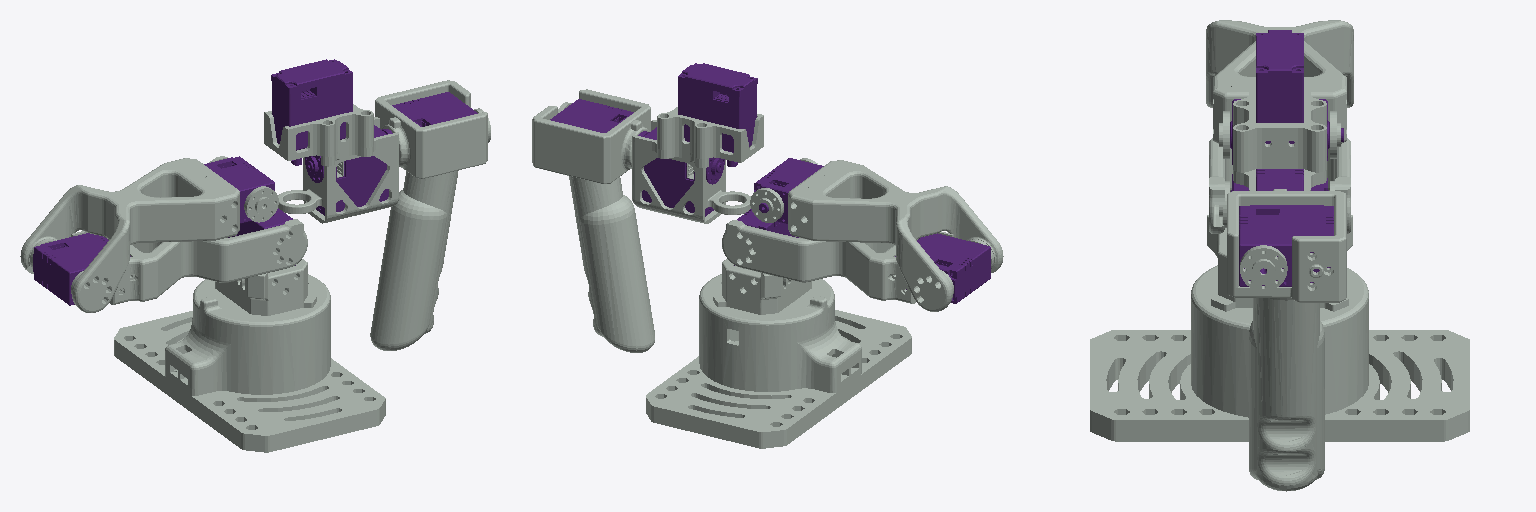
The robot description file, URDF, robot "stararm102_ld_simulator":
<?xml version="1.0" encoding="utf-8"?>
<robot name="stararm102_ld_simulator">
  <material name="shell">
    <color rgba="0.720 0.760 0.730 1"/>
  </material>
  <material name="motor">
    <color rgba="0.394 0.219 0.523 1"/>
  </material>
  <link name="base_link">
    <inertial>
      <origin xyz="-0.00507886641574018 -3.42055196168034E-05 0.0170541570471663" rpy="0 0 0"/>
      <mass value="0.155441639095221"/>
      <inertia ixx="0.000211774147683076" ixy="-1.12835975463621E-08" ixz="-1.66282304179735E-06" iyy="0.000108041554696676" iyz="3.2421968022911E-08" izz="0.000295757258206271"/>
    </inertial>
    <collision>
      <origin xyz="0 0 0" rpy="0 0 0"/>
      <geometry>
        <mesh filename="package://stararm102/meshes/ld/base_link.STL"/>
      </geometry>
    </collision>
    <visual>
      <origin xyz="0 0 0" rpy="0 0 0"/>
      <geometry>
        <mesh filename="package://stararm102/meshes/ld/shells/base_link__0.STL"/>
      </geometry>
      <material name="shell"/>
    </visual>
    <visual>
      <origin xyz="0 0 0" rpy="0 0 0"/>
      <geometry>
        <mesh filename="package://stararm102/meshes/ld/shells/base_link__1.STL"/>
      </geometry>
      <material name="shell"/>
    </visual>
  </link>
  <link name="link1">
    <inertial>
      <origin xyz="-0.000860795817551681 3.48041004087085E-05 0.0388877617080775" rpy="0 0 0"/>
      <mass value="0.0365919096309897"/>
      <inertia ixx="1.06390422111377E-05" ixy="1.47026736408431E-13" ixz="3.78567348260604E-07" iyy="6.84495444026531E-06" iyz="-3.37080406447148E-09" izz="1.2039407998213E-05"/>
    </inertial>
    <collision>
      <origin xyz="0 0 0" rpy="0 0 0"/>
      <geometry>
        <mesh filename="package://stararm102/meshes/ld/link1.STL"/>
      </geometry>
    </collision>
    <visual>
      <origin xyz="0 0 0" rpy="0 0 0"/>
      <geometry>
        <mesh filename="package://stararm102/meshes/ld/shells/link1__0.STL"/>
      </geometry>
      <material name="motor"/>
    </visual>
    <visual>
      <origin xyz="0 0 0" rpy="0 0 0"/>
      <geometry>
        <mesh filename="package://stararm102/meshes/ld/shells/link1__1.STL"/>
      </geometry>
      <material name="shell"/>
    </visual>
    <visual>
      <origin xyz="0 0 0" rpy="0 0 0"/>
      <geometry>
        <mesh filename="package://stararm102/meshes/ld/shells/link1__2.STL"/>
      </geometry>
      <material name="shell"/>
    </visual>
    <visual>
      <origin xyz="0 0 0" rpy="0 0 0"/>
      <geometry>
        <mesh filename="package://stararm102/meshes/ld/shells/link1__3.STL"/>
      </geometry>
      <material name="shell"/>
    </visual>
    <visual>
      <origin xyz="0 0 0" rpy="0 0 0"/>
      <geometry>
        <mesh filename="package://stararm102/meshes/ld/shells/link1__4.STL"/>
      </geometry>
      <material name="shell"/>
    </visual>
  </link>
  <joint name="joint1" type="revolute">
    <origin xyz="0 0 0.03135" rpy="0 0 0"/>
    <parent link="base_link"/>
    <child link="link1"/>
    <axis xyz="0 0 -1"/>
    <limit effort="100" velocity="1" lower="-2.27" upper="2.27"/>
  </joint>
  <link name="link2">
    <inertial>
      <origin xyz="0.065445114144764 4.80766137382835E-05 1.86081119329107E-05" rpy="0 0 0"/>
      <mass value="0.0677741447743621"/>
      <inertia ixx="2.49505701233235E-05" ixy="-1.4323495575068E-06" ixz="-2.88763068172859E-09" iyy="7.27062347454161E-05" iyz="5.01460295474944E-11" izz="5.48857485408553E-05"/>
    </inertial>
    <collision>
      <origin xyz="0 0 0" rpy="0 0 0"/>
      <geometry>
        <mesh filename="package://stararm102/meshes/ld/link2.STL"/>
      </geometry>
    </collision>
    <visual>
      <origin xyz="0 0 0" rpy="0 0 0"/>
      <geometry>
        <mesh filename="package://stararm102/meshes/ld/shells/link2__0.STL"/>
      </geometry>
      <material name="shell"/>
    </visual>
    <visual>
      <origin xyz="0 0 0" rpy="0 0 0"/>
      <geometry>
        <mesh filename="package://stararm102/meshes/ld/shells/link2__1.STL"/>
      </geometry>
      <material name="motor"/>
    </visual>
    <visual>
      <origin xyz="0 0 0" rpy="0 0 0"/>
      <geometry>
        <mesh filename="package://stararm102/meshes/ld/shells/link2__2.STL"/>
      </geometry>
      <material name="shell"/>
    </visual>
    <visual>
      <origin xyz="0 0 0" rpy="0 0 0"/>
      <geometry>
        <mesh filename="package://stararm102/meshes/ld/shells/link2__3.STL"/>
      </geometry>
      <material name="shell"/>
    </visual>
    <visual>
      <origin xyz="0 0 0" rpy="0 0 0"/>
      <geometry>
        <mesh filename="package://stararm102/meshes/ld/shells/link2__4.STL"/>
      </geometry>
      <material name="shell"/>
    </visual>
  </link>
  <joint name="joint2" type="revolute">
    <origin xyz="0 0 0.061025" rpy="-1.5708 0 3.1416"/>
    <parent link="link1"/>
    <child link="link2"/>
    <axis xyz="0 0 -1"/>
    <limit effort="100" velocity="1" lower="0" upper="3.14"/>
  </joint>
  <link name="link3">
    <inertial>
      <origin xyz="0.0139670047463857 -0.0548362979855048 -0.0260232297832349" rpy="0 0 0"/>
      <mass value="0.062483417986533"/>
      <inertia ixx="6.07869930598935E-05" ixy="6.07457290650578E-06" ixz="1.72220333532639E-10" iyy="2.4119750081723E-05" iyz="-1.05927086495088E-08" izz="4.79411867478519E-05"/>
    </inertial>
    <collision>
      <origin xyz="0 0 0" rpy="0 0 0"/>
      <geometry>
        <mesh filename="package://stararm102/meshes/ld/link3.STL"/>
      </geometry>
    </collision>
    <visual>
      <origin xyz="0 0 0" rpy="0 0 0"/>
      <geometry>
        <mesh filename="package://stararm102/meshes/ld/shells/link3__0.STL"/>
      </geometry>
      <material name="shell"/>
    </visual>
    <visual>
      <origin xyz="0 0 0" rpy="0 0 0"/>
      <geometry>
        <mesh filename="package://stararm102/meshes/ld/shells/link3__1.STL"/>
      </geometry>
      <material name="motor"/>
    </visual>
    <visual>
      <origin xyz="0 0 0" rpy="0 0 0"/>
      <geometry>
        <mesh filename="package://stararm102/meshes/ld/shells/link3__2.STL"/>
      </geometry>
      <material name="shell"/>
    </visual>
    <visual>
      <origin xyz="0 0 0" rpy="0 0 0"/>
      <geometry>
        <mesh filename="package://stararm102/meshes/ld/shells/link3__3.STL"/>
      </geometry>
      <material name="shell"/>
    </visual>
    <visual>
      <origin xyz="0 0 0" rpy="0 0 0"/>
      <geometry>
        <mesh filename="package://stararm102/meshes/ld/shells/link3__4.STL"/>
      </geometry>
      <material name="shell"/>
    </visual>
  </link>
  <joint name="joint3" type="revolute">
    <origin xyz="0.12162 -0.002 0" rpy="0 0 -1.5708"/>
    <parent link="link2"/>
    <child link="link3"/>
    <axis xyz="0 0 -1"/>
    <limit effort="100" velocity="1" lower="-1.57" upper="1.57"/>
  </joint>
  <link name="link4">
    <inertial>
      <origin xyz="0.0233852853653051 -0.00064950134956597 -4.72632631462466E-06" rpy="0 0 0"/>
      <mass value="0.0290020616470162"/>
      <inertia ixx="1.1313445878846E-05" ixy="2.04495765263871E-08" ixz="3.96927019964726E-09" iyy="1.29471641752426E-05" iyz="1.58418299959233E-09" izz="5.57726165351631E-06"/>
    </inertial>
    <collision>
      <origin xyz="0 0 0" rpy="0 0 0"/>
      <geometry>
        <mesh filename="package://stararm102/meshes/ld/link4.STL"/>
      </geometry>
    </collision>
    <visual>
      <origin xyz="0 0 0" rpy="0 0 0"/>
      <geometry>
        <mesh filename="package://stararm102/meshes/ld/link4.STL"/>
      </geometry>
      <material name="shell"/>
    </visual>
  </link>
  <joint name="joint4" type="revolute">
    <origin xyz="0.024219 -0.10865 0" rpy="0 0 -1.5708"/>
    <parent link="link3"/>
    <child link="link4"/>
    <axis xyz="0 0 -1"/>
    <limit effort="100" velocity="1" lower="-1.57" upper="1.57"/>
  </joint>
  <link name="link5">
    <inertial>
      <origin xyz="0.0239721333681056 1.60405714164091E-06 0.0123439857182104" rpy="0 0 0"/>
      <mass value="0.04381347428302"/>
      <inertia ixx="8.71603004200794E-06" ixy="6.14891079200239E-10" ixz="2.11746739586546E-07" iyy="1.364277032058E-05" iyz="1.11466543450896E-10" izz="1.22790054604825E-05"/>
    </inertial>
    <collision>
      <origin xyz="0 0 0" rpy="0 0 0"/>
      <geometry>
        <mesh filename="package://stararm102/meshes/ld/link5.STL"/>
      </geometry>
    </collision>
    <visual>
      <origin xyz="0 0 0" rpy="0 0 0"/>
      <geometry>
        <mesh filename="package://stararm102/meshes/ld/shells/link5__0.STL"/>
      </geometry>
      <material name="shell"/>
    </visual>
    <visual>
      <origin xyz="0 0 0" rpy="0 0 0"/>
      <geometry>
        <mesh filename="package://stararm102/meshes/ld/shells/link5__1.STL"/>
      </geometry>
      <material name="motor"/>
    </visual>
    <visual>
      <origin xyz="0 0 0" rpy="0 0 0"/>
      <geometry>
        <mesh filename="package://stararm102/meshes/ld/shells/link5__2.STL"/>
      </geometry>
      <material name="motor"/>
    </visual>
    <visual>
      <origin xyz="0 0 0" rpy="0 0 0"/>
      <geometry>
        <mesh filename="package://stararm102/meshes/ld/shells/link5__3.STL"/>
      </geometry>
      <material name="motor"/>
    </visual>
    <visual>
      <origin xyz="0 0 0" rpy="0 0 0"/>
      <geometry>
        <mesh filename="package://stararm102/meshes/ld/shells/link5__4.STL"/>
      </geometry>
      <material name="motor"/>
    </visual>
    <visual>
      <origin xyz="0 0 0" rpy="0 0 0"/>
      <geometry>
        <mesh filename="package://stararm102/meshes/ld/shells/link5__5.STL"/>
      </geometry>
      <material name="motor"/>
    </visual>
    <visual>
      <origin xyz="0 0 0" rpy="0 0 0"/>
      <geometry>
        <mesh filename="package://stararm102/meshes/ld/shells/link5__6.STL"/>
      </geometry>
      <material name="motor"/>
    </visual>
    <visual>
      <origin xyz="0 0 0" rpy="0 0 0"/>
      <geometry>
        <mesh filename="package://stararm102/meshes/ld/shells/link5__7.STL"/>
      </geometry>
      <material name="motor"/>
    </visual>
  </link>
  <joint name="joint5" type="revolute">
    <origin xyz="0.035 -0.00203 0" rpy="-1.5708 0 0"/>
    <parent link="link4"/>
    <child link="link5"/>
    <axis xyz="0 0 -1"/>
    <limit effort="100" velocity="1" lower="-2.27" upper="2.27"/>
  </joint>
  <link name="link6">
    <inertial>
      <origin xyz="0.00415459393144704 6.90476927523165E-05 -0.0776167187492962" rpy="0 0 0"/>
      <mass value="0.0277279215984807"/>
      <inertia ixx="6.06312512308252E-06" ixy="3.91296868794582E-08" ixz="-1.01016013762684E-06" iyy="6.31326639496487E-06" iyz="9.82075534976282E-09" izz="7.98591452298848E-06"/>
    </inertial>
    <collision>
      <origin xyz="0 0 0" rpy="0 0 0"/>
      <geometry>
        <mesh filename="package://stararm102/meshes/ld/link6.STL"/>
      </geometry>
    </collision>
    <visual>
      <origin xyz="0 0 0" rpy="0 0 0"/>
      <geometry>
        <mesh filename="package://stararm102/meshes/ld/shells/link6__0.STL"/>
      </geometry>
      <material name="shell"/>
    </visual>
    <visual>
      <origin xyz="0 0 0" rpy="0 0 0"/>
      <geometry>
        <mesh filename="package://stararm102/meshes/ld/shells/link6__1.STL"/>
      </geometry>
      <material name="motor"/>
    </visual>
    <visual>
      <origin xyz="0 0 0" rpy="0 0 0"/>
      <geometry>
        <mesh filename="package://stararm102/meshes/ld/shells/link6__2.STL"/>
      </geometry>
      <material name="shell"/>
    </visual>
    <visual>
      <origin xyz="0 0 0" rpy="0 0 0"/>
      <geometry>
        <mesh filename="package://stararm102/meshes/ld/shells/link6__3.STL"/>
      </geometry>
      <material name="motor"/>
    </visual>
    <visual>
      <origin xyz="0 0 0" rpy="0 0 0"/>
      <geometry>
        <mesh filename="package://stararm102/meshes/ld/shells/link6__4.STL"/>
      </geometry>
      <material name="motor"/>
    </visual>
  </link>
  <joint name="joint6" type="revolute">
    <origin xyz="0.1186 0 0.005875" rpy="-1.5708 0 -1.5708"/>
    <parent link="link5"/>
    <child link="link6"/>
    <axis xyz="0 0 -1"/>
    <limit effort="100" velocity="1" lower="-2.27" upper="2.27"/>
  </joint>
  <link name="link7_left">
    <inertial>
      <origin xyz="0.0281158042585857 0.00012184612342972 0.000226777556244492" rpy="0 0 0"/>
      <mass value="0.0209012827567763"/>
      <inertia ixx="6.35411360036268E-06" ixy="-2.90503922182143E-07" ixz="6.32393072078588E-08" iyy="1.42917487489547E-05" iyz="1.63150501633264E-10" izz="9.06820649030484E-06"/>
    </inertial>
    <collision>
      <origin xyz="0 0 0" rpy="0 0 0"/>
      <geometry>
        <mesh filename="package://stararm102/meshes/ld/link7_left.STL"/>
      </geometry>
    </collision>
    <visual>
      <origin xyz="0 0 0" rpy="0 0 0"/>
      <geometry>
        <mesh filename="package://stararm102/meshes/ld/link7_left.STL"/>
      </geometry>
      <material name="shell"/>
    </visual>
  </link>
  <joint name="joint7_left" type="revolute">
    <origin xyz="0.0032934 -0.0014419 -0.0031" rpy="0 0 0"/>
    <parent link="link6"/>
    <child link="link7_left"/>
    <axis xyz="0 0 -1"/>
    <limit effort="5" velocity="3.14" lower="-1.57" upper="1.57"/>
  </joint>
  <link name="link7_right">
    <inertial>
      <origin xyz="0.029631 -9.0637E-05 -0.0004" rpy="0 0 0"/>
      <mass value="0.019895"/>
      <inertia ixx="5.549E-06" ixy="3.0636E-07" ixz="1.641E-12" iyy="1.2591E-05" iyz="-4.8393E-13" izz="8.1517E-06"/>
    </inertial>
    <collision>
      <origin xyz="0 0 0" rpy="0 0 0"/>
      <geometry>
        <mesh filename="package://stararm102/meshes/ld/link7_right.STL"/>
      </geometry>
    </collision>
    <visual>
      <origin xyz="0 0 0" rpy="0 0 0"/>
      <geometry>
        <mesh filename="package://stararm102/meshes/ld/link7_right.STL"/>
      </geometry>
      <material name="shell"/>
    </visual>
  </link>
  <joint name="joint7_right" type="revolute">
    <origin xyz="-0.016371 -0.0022579 -0.002" rpy="0 0 0"/>
    <parent link="link6"/>
    <child link="link7_right"/>
    <axis xyz="0 0 -1"/>
    <limit effort="5" velocity="3.14" lower="-1.57" upper="1.57"/>
  </joint>
</robot>

--- Facts derived from the render (not from the file) ---
Views: 3 orthographic renders of the robot side by side, from view 1: azimuth 30°, elevation 25°; view 2: azimuth 150°, elevation 25°; view 3: azimuth 270°, elevation 25°.
Model stararm102_ld_simulator with 9 links and 8 joints (8 revolute), rooted at base_link, posed every joint at zero.
Links seen in each view (by area): view 1: base_link, link6, link3, link5, link2, link1; view 2: base_link, link6, link3, link5, link2, link1; view 3: base_link, link6, link5, link3, link2, link1.
Link boxes in pixels (<box>): base_link: <box>114,274,385,452</box>; link6: <box>370,80,490,350</box>; link3: <box>20,156,278,312</box>; link5: <box>264,59,398,223</box>; link2: <box>30,219,307,305</box>; link1: <box>215,208,316,315</box>; base_link: <box>646,274,911,448</box>; link6: <box>532,89,654,352</box>; link3: <box>750,158,1003,311</box>; link5: <box>632,63,763,223</box>; link2: <box>722,220,993,303</box>; link1: <box>713,209,811,314</box>; base_link: <box>1090,265,1469,441</box>; link6: <box>1227,189,1346,491</box>; link5: <box>1233,30,1326,190</box>; link3: <box>1206,20,1353,164</box>; link2: <box>1209,138,1350,233</box>; link1: <box>1207,174,1352,311</box>.
Bounding box of the posed robot: 0.2706 × 0.16 × 0.1789 m (x, y, z).
30 mesh visuals loaded from 33 distinct referenced files (30 binary STL); not drawn: 3 (reference not matched to a file when rendering).
